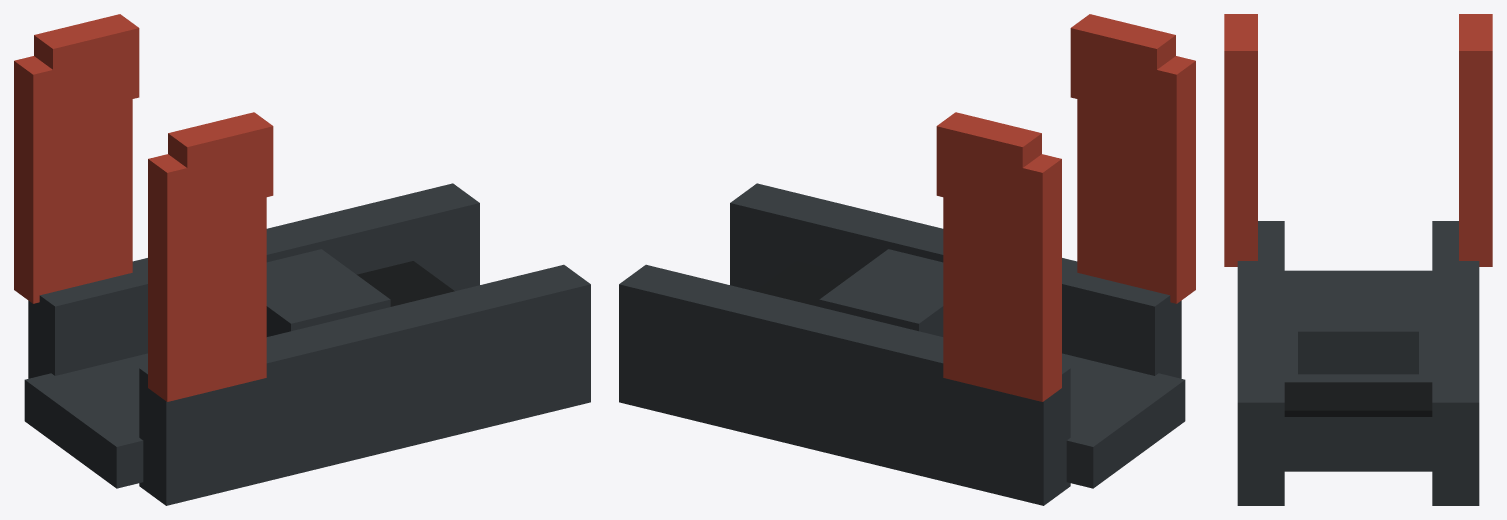
The model's file is skid_steer_frame.glb.
3 views of the same model, side by side, from view 1: azimuth 30°, elevation 25°; view 2: azimuth 150°, elevation 25°; view 3: azimuth 270°, elevation 25° (orthographic). The views are drawn at different scales.
Visible parts, largest first — view 1: body:compound; view 2: body:compound; view 3: body:compound.
Part boxes in pixels (x1,y1,x2,y2): body:compound: (14,14,590,505); body:compound: (619,14,1195,505); body:compound: (1224,14,1492,505).
Size of the model in its own units: 2.12 by 1.62 by 1.25.
